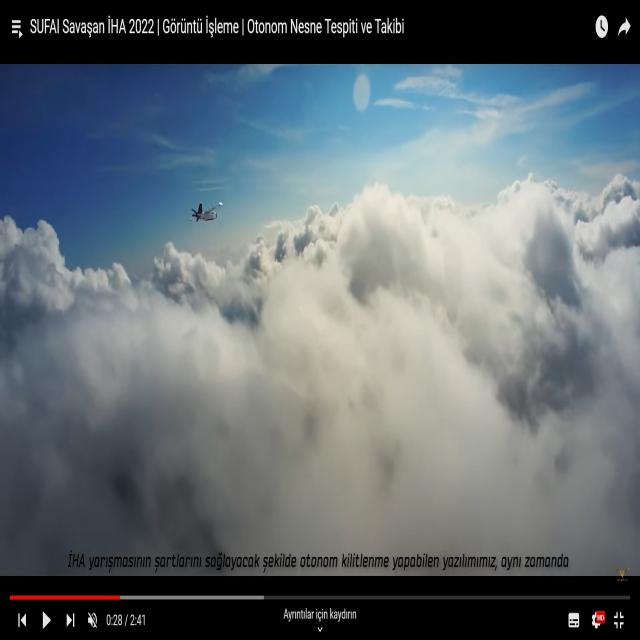iha: (188, 199, 225, 224)
